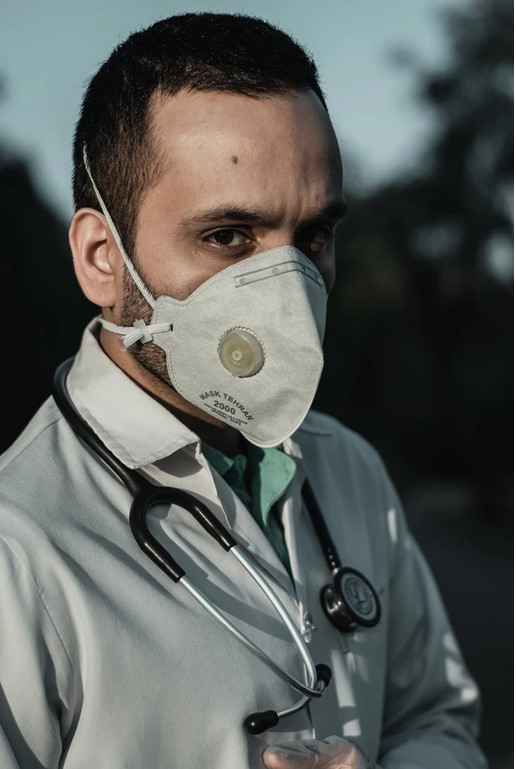face_with_mask: (69, 15, 344, 448)
